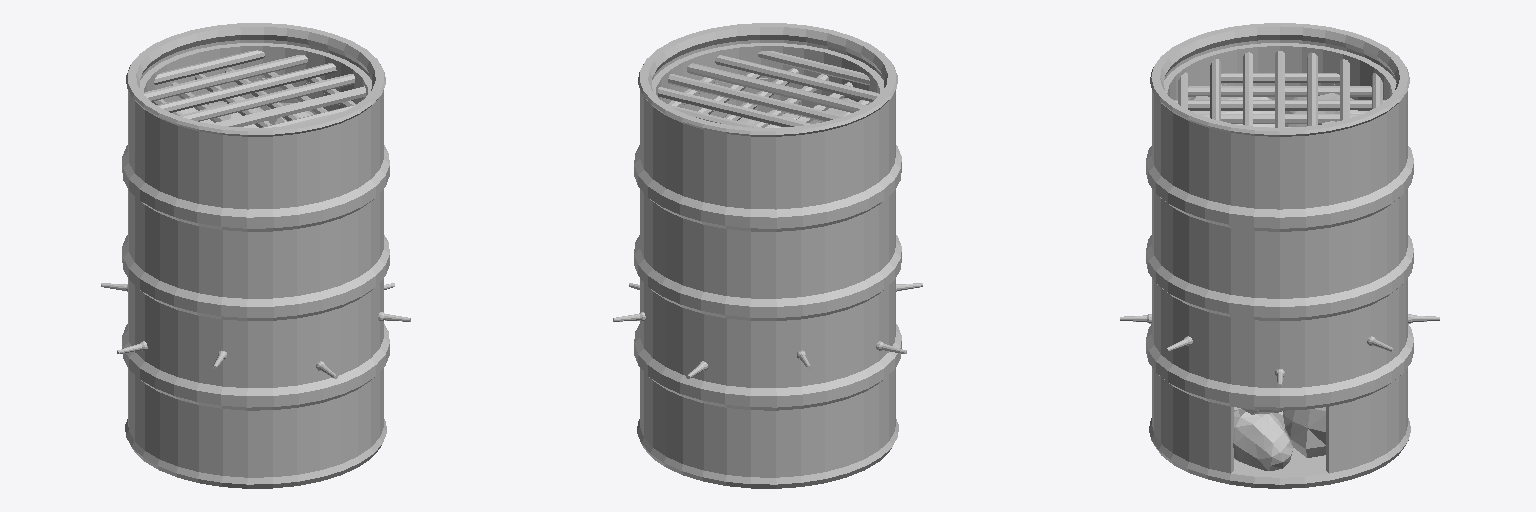
The model's file is fire_barrel.obj.
3 renders of one model, left to right at view 1: azimuth 30°, elevation 25°; view 2: azimuth 150°, elevation 25°; view 3: azimuth 270°, elevation 25°, orthographic.
Parts seen in each view (by area): view 1: Fire_Barrel_Material_0, Fire_Barrel_Grill_Top_Material_0, Fire_Barrel_Inner_Ring_Material_0, Fire_Barrel_Grill_Top.001_Material_0, Fire_Barrel_Spikes_Maybe_Delete_Material_0, Fire_Barrel_Hot_Coals_Material_0; view 2: Fire_Barrel_Material_0, Fire_Barrel_Grill_Top_Material_0, Fire_Barrel_Inner_Ring_Material_0, Fire_Barrel_Grill_Top.001_Material_0, Fire_Barrel_Spikes_Maybe_Delete_Material_0; view 3: Fire_Barrel_Material_0, Fire_Barrel_Hot_Coals_Material_0, Fire_Barrel_Inner_Ring_Material_0, Fire_Barrel_Grill_Top.001_Material_0, Fire_Barrel_Grill_Top_Material_0, Fire_Barrel_Spikes_Maybe_Delete_Material_0.
Part boxes in pixels (left/top/right/bottom): Fire_Barrel_Material_0: left=122, top=23, right=389, bottom=488; Fire_Barrel_Grill_Top_Material_0: left=144, top=50, right=365, bottom=127; Fire_Barrel_Inner_Ring_Material_0: left=140, top=43, right=371, bottom=110; Fire_Barrel_Grill_Top.001_Material_0: left=152, top=68, right=355, bottom=127; Fire_Barrel_Spikes_Maybe_Delete_Material_0: left=101, top=283, right=410, bottom=378; Fire_Barrel_Hot_Coals_Material_0: left=179, top=96, right=313, bottom=127; Fire_Barrel_Material_0: left=634, top=23, right=901, bottom=488; Fire_Barrel_Grill_Top_Material_0: left=658, top=51, right=879, bottom=127; Fire_Barrel_Inner_Ring_Material_0: left=652, top=43, right=883, bottom=115; Fire_Barrel_Grill_Top.001_Material_0: left=668, top=68, right=871, bottom=127; Fire_Barrel_Spikes_Maybe_Delete_Material_0: left=613, top=283, right=922, bottom=378; Fire_Barrel_Material_0: left=1146, top=23, right=1413, bottom=488; Fire_Barrel_Hot_Coals_Material_0: left=1190, top=93, right=1367, bottom=470; Fire_Barrel_Inner_Ring_Material_0: left=1163, top=43, right=1396, bottom=99; Fire_Barrel_Grill_Top.001_Material_0: left=1174, top=73, right=1385, bottom=127; Fire_Barrel_Grill_Top_Material_0: left=1178, top=51, right=1382, bottom=127; Fire_Barrel_Spikes_Maybe_Delete_Material_0: left=1120, top=314, right=1439, bottom=387.
Bounding box in the file's own units: 0.9657 × 1.19 × 0.9657.